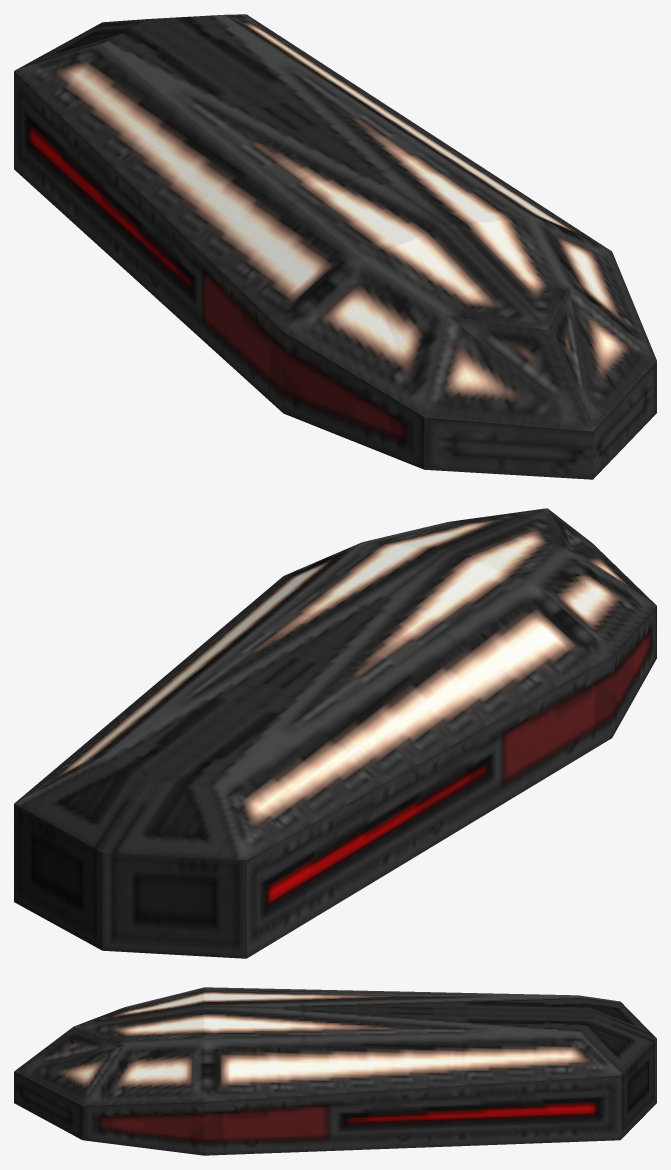
Rendered from BFP_Cockpit_02.FBX.
3 views of the same model, one above another, from view 1: azimuth 30°, elevation 25°; view 2: azimuth 150°, elevation 25°; view 3: azimuth 270°, elevation 25° (orthographic). The views are drawn at different scales.
Visible parts, largest first — view 1: BFP_Cockpit02; view 2: BFP_Cockpit02; view 3: BFP_Cockpit02.
Boxes of the visible parts, x1=… form: BFP_Cockpit02: x1=14, y1=14, x2=656, y2=479; BFP_Cockpit02: x1=14, y1=508, x2=656, y2=958; BFP_Cockpit02: x1=14, y1=987, x2=656, y2=1155.
Bounding box in the file's own units: 70 × 30 × 181.
Materials: 1 (1 with a texture image).
